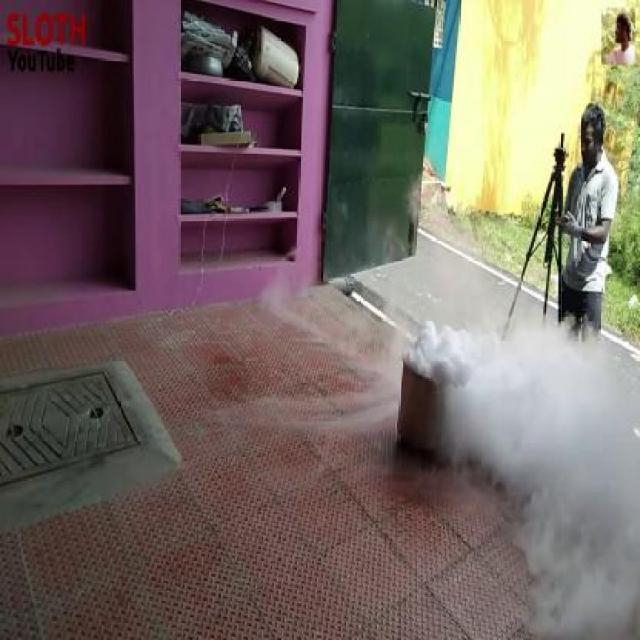smoke: (382, 281, 541, 554)
